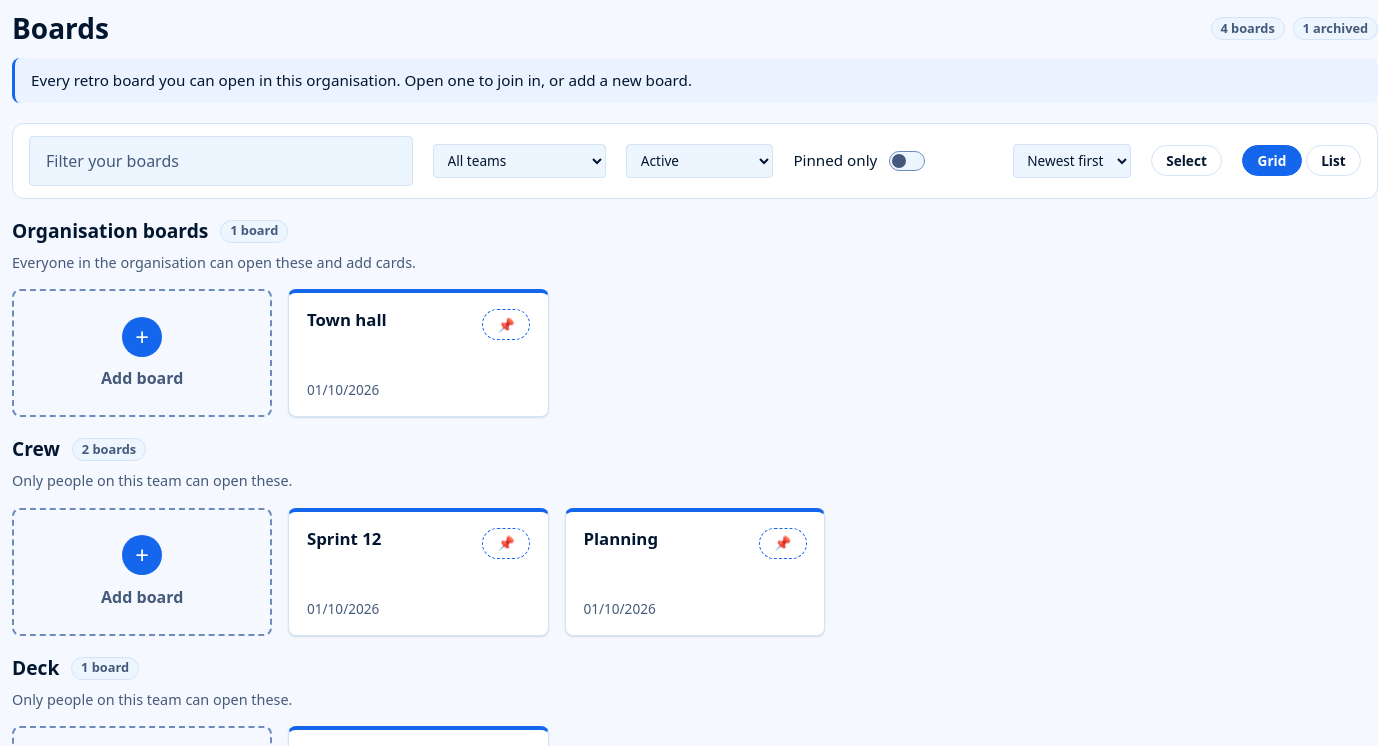
Scenario: OrgBoardsPage › shows archived boards only when asked
Select "Archived" in the dropdown named "Status". click: (700, 161)
box: [626,144,773,178]
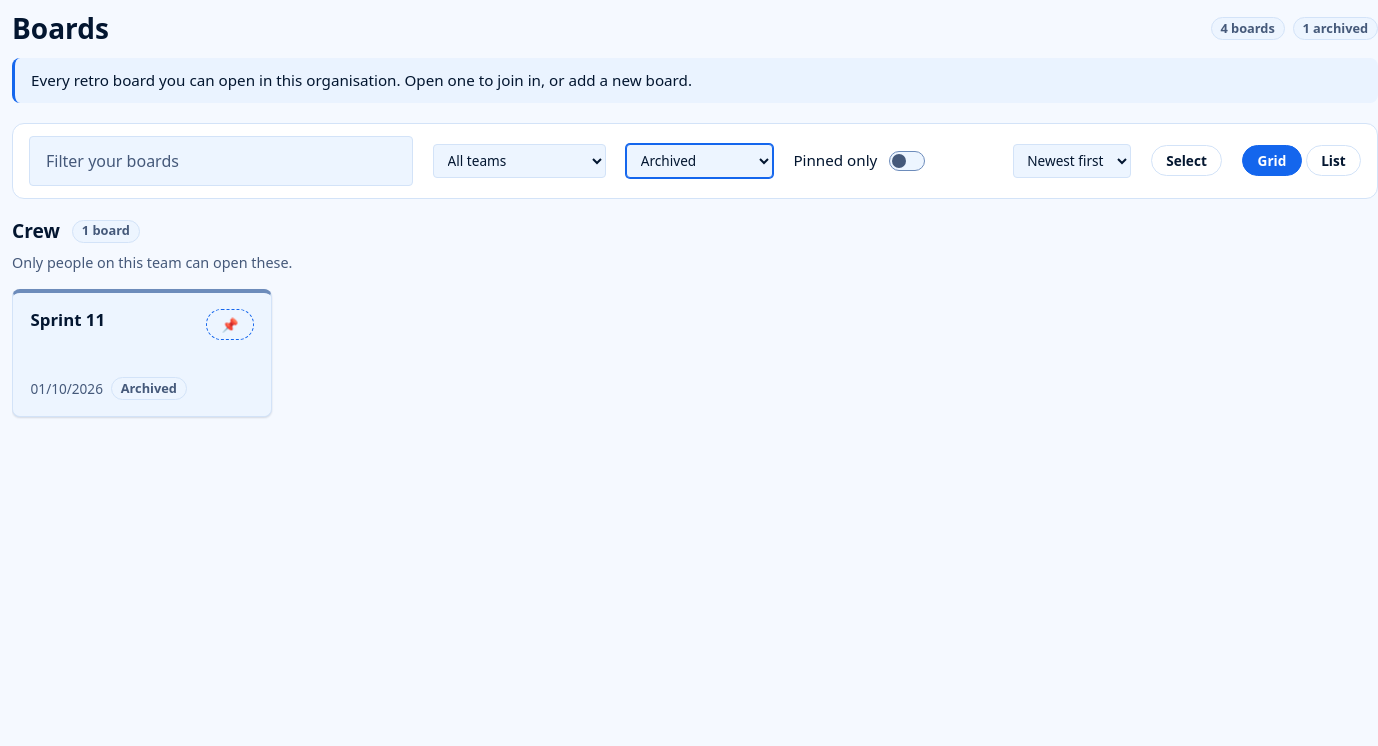
Expected: the link "Add board" is gone
